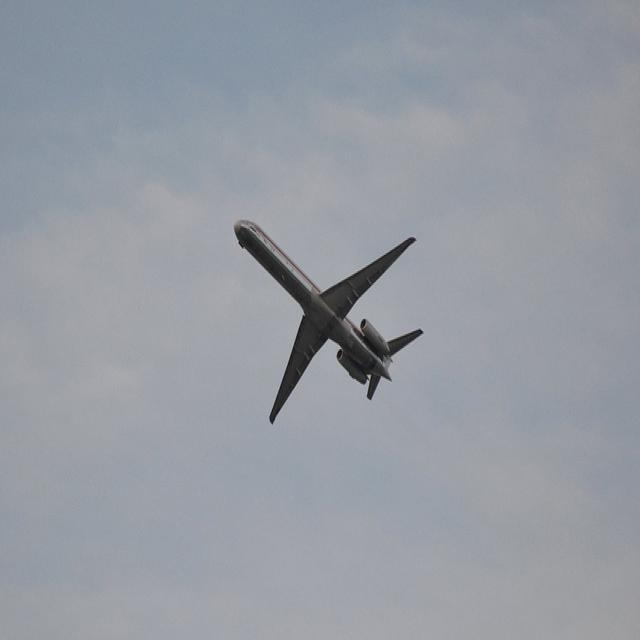airplane: (233, 222, 426, 427)
